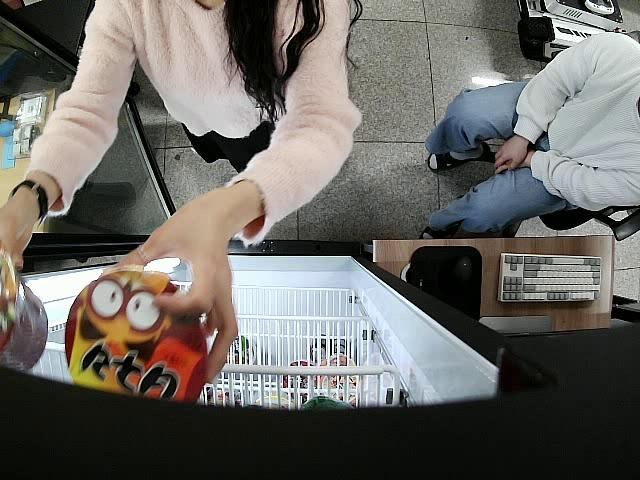00_hand: (99, 199, 236, 383)
05_nuguri_L: (65, 267, 208, 404), (0, 246, 49, 374)
